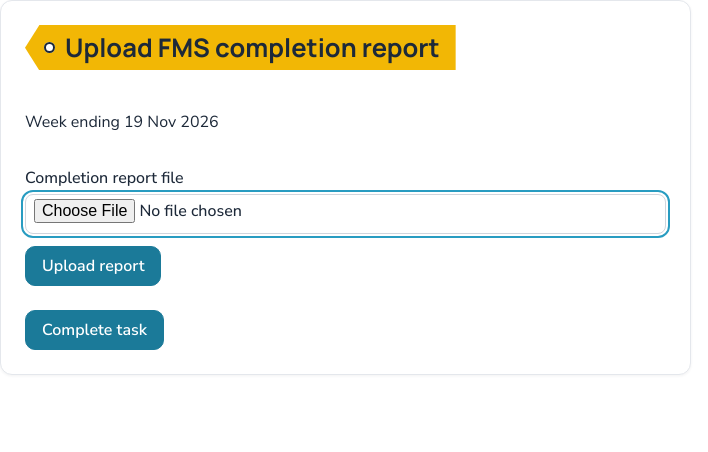
Test: UploadCompletionReport › BPA59_aFileLevelOutcomeIsShownAsOneLine
This screenshot has width=708, height=452.
Earlier steps of the test are not shown.
Expected: the text "Week ending 19 Nov 2026" is shown, left=25, top=111, right=219, bottom=133
Click the button "Upload report".
click(93, 266)  # box left=25, top=246, right=162, bottom=286
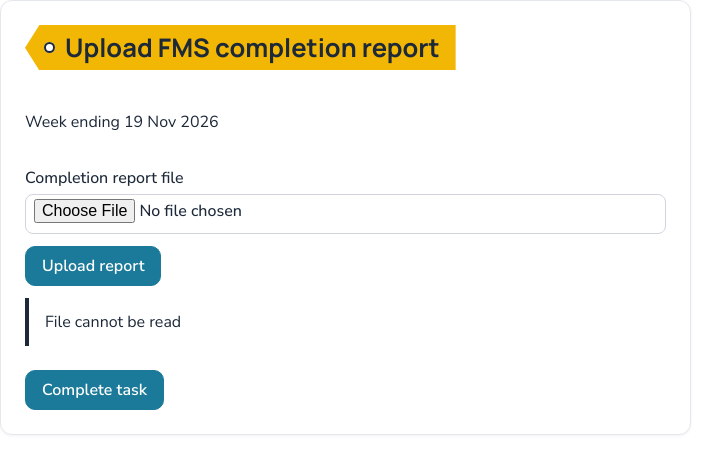
Result: the text "File cannot be read" is shown at left=25, top=298, right=666, bottom=346
